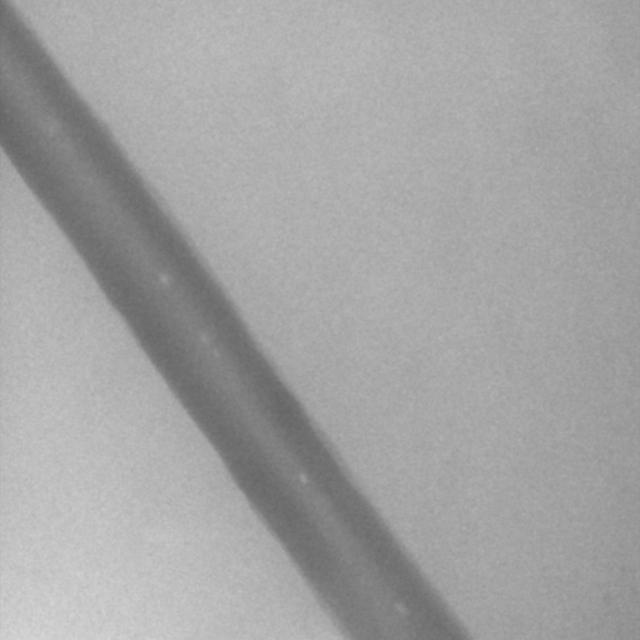air hole: (393, 599, 407, 615), (158, 270, 170, 288), (298, 471, 309, 484)
